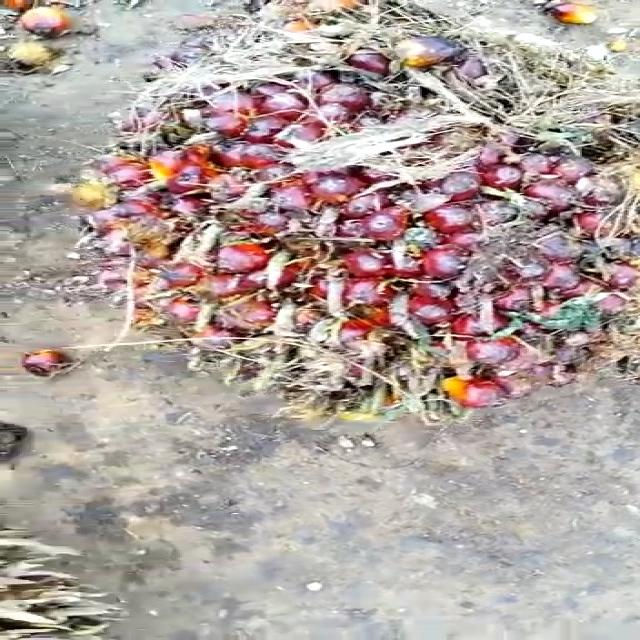palm oil: (88, 34, 640, 422)
